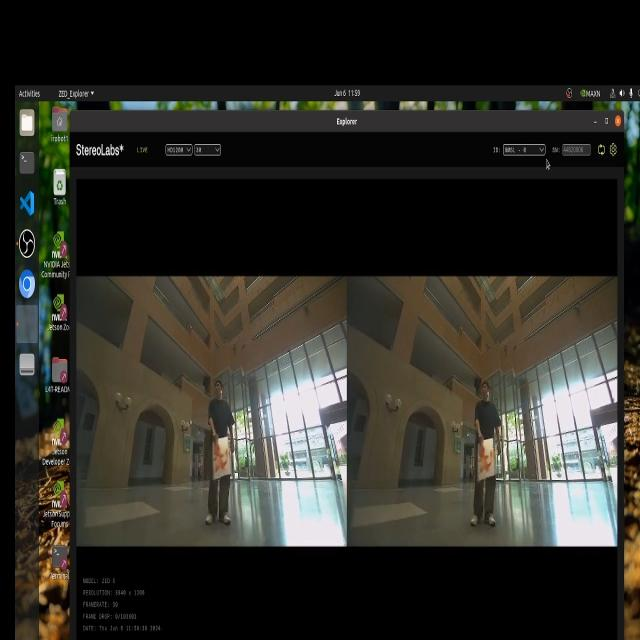red: (212, 437, 230, 479), (476, 439, 490, 462)
